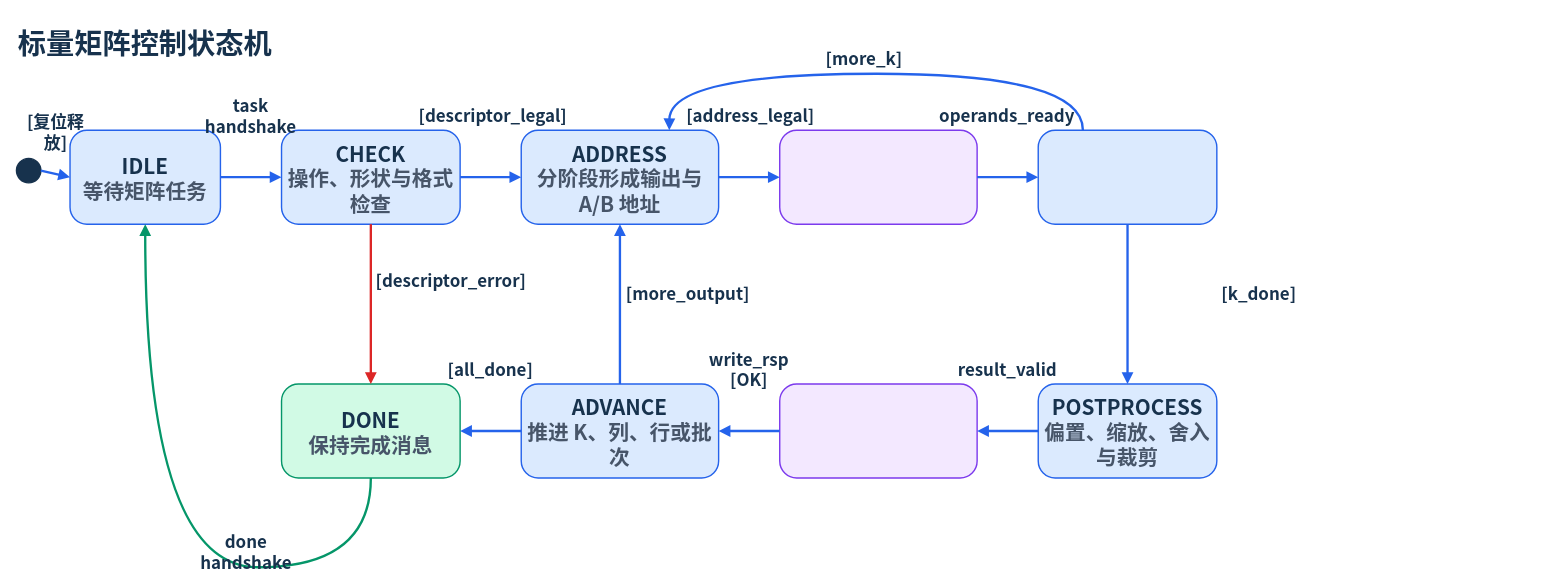
Some shapes in this 1558 by 588 pixel diagram are drawn without their labels. Each missing label, with the centre of its shape:
"MAC 请求 Scalar Matrix MAC 并累加" belongs at (1127,176).
"READ_OPERANDS 依次读取 A、B 与可选输入" belongs at (878,176).
"WRITE 写出一个 C 元素" belongs at (878,430).
